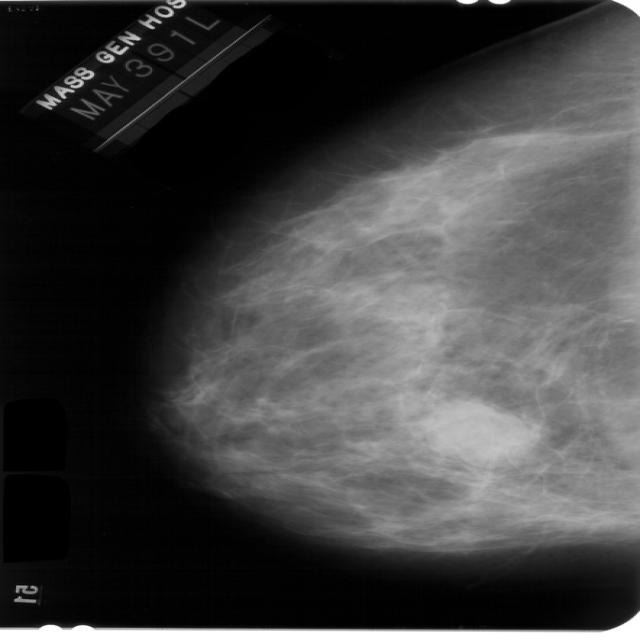tumour: (426, 400, 530, 459)
